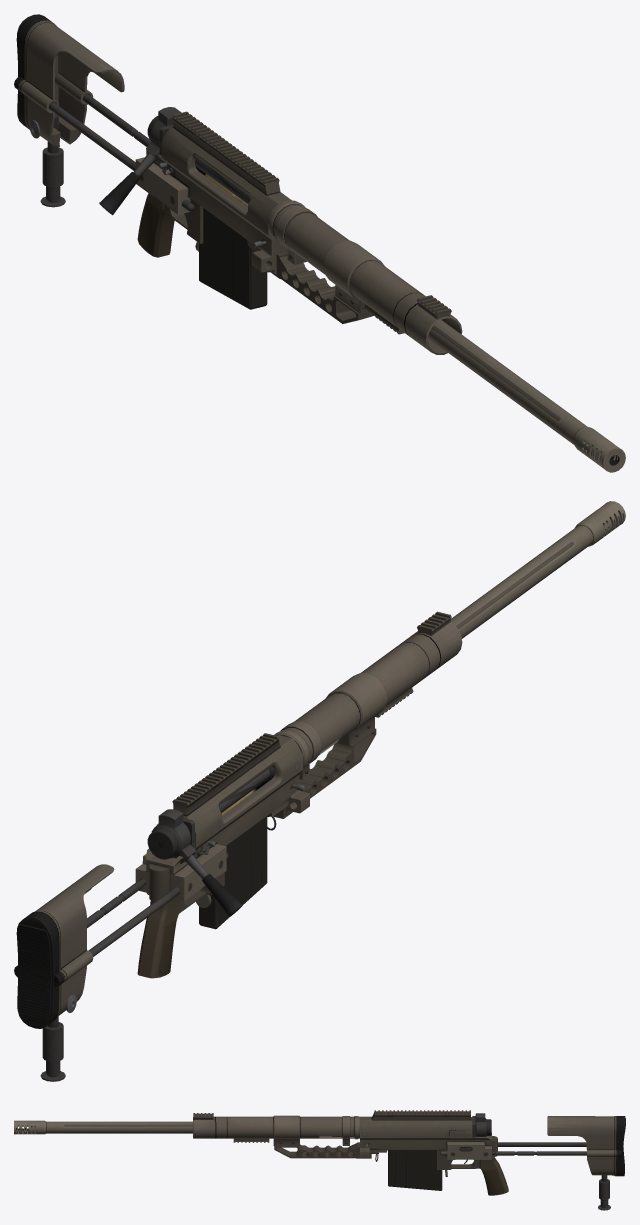
The model's file is raw.glb.
3 views of the same model, one above another, from view 1: azimuth 30°, elevation 25°; view 2: azimuth 150°, elevation 25°; view 3: azimuth 270°, elevation 25° (orthographic). The views are drawn at different scales.
Parts seen in each view (by area): view 1: m200_LOD0; view 2: m200_LOD0; view 3: m200_LOD0.
Part boxes in pixels (box(x1,y1,x2,y2)): m200_LOD0: box(14, 14, 625, 472); m200_LOD0: box(14, 501, 625, 1081); m200_LOD0: box(14, 1110, 625, 1210).
Size of the model in its own units: 0.1175 by 0.2151 by 1.25.
1 material, 1 textured.
